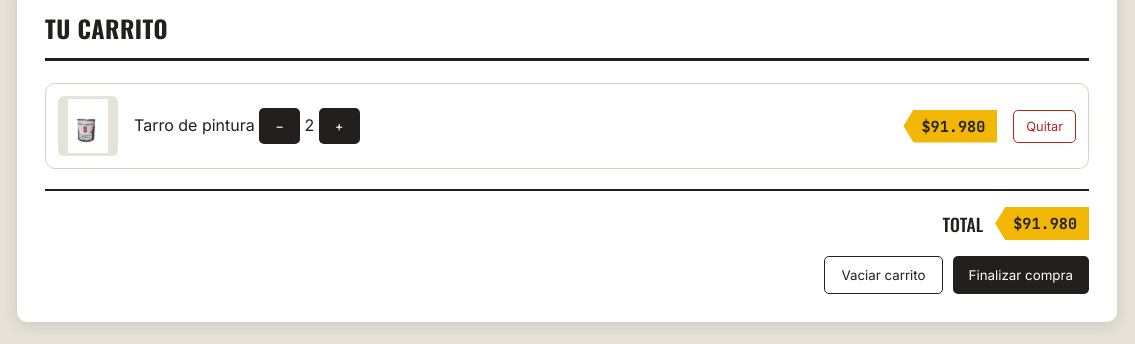
Test: El botón − resta una unidad y devuelve una al stock
# interaccion del usuario
Click the button "−".
click(280, 126)  # box [259, 108, 300, 144]
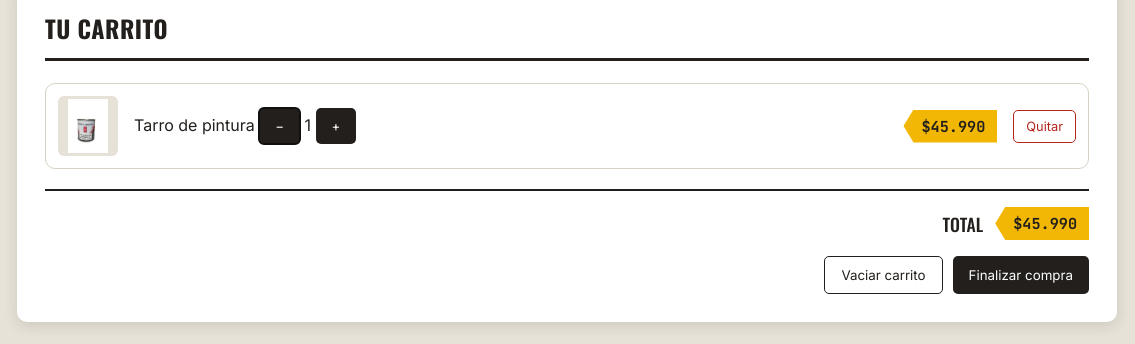
Check: the text "1" is shown, box [304, 115, 311, 135]
